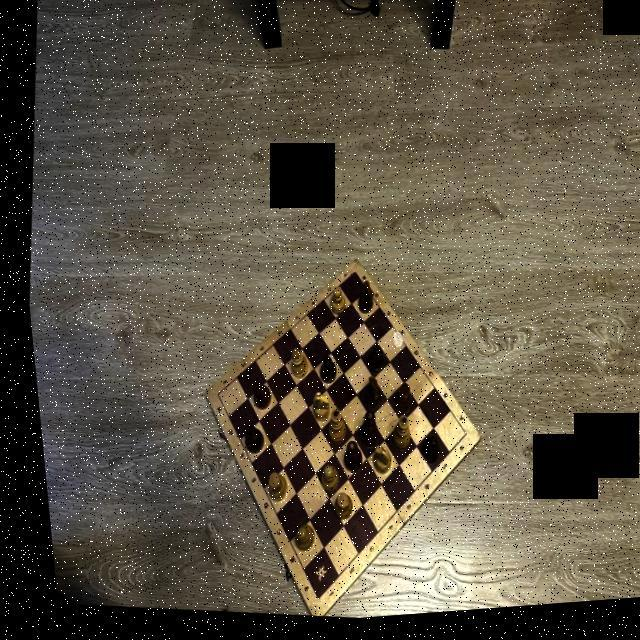chess-table-corners: (452, 436, 460, 444), (302, 598, 309, 606), (206, 394, 212, 400), (346, 274, 352, 280)
